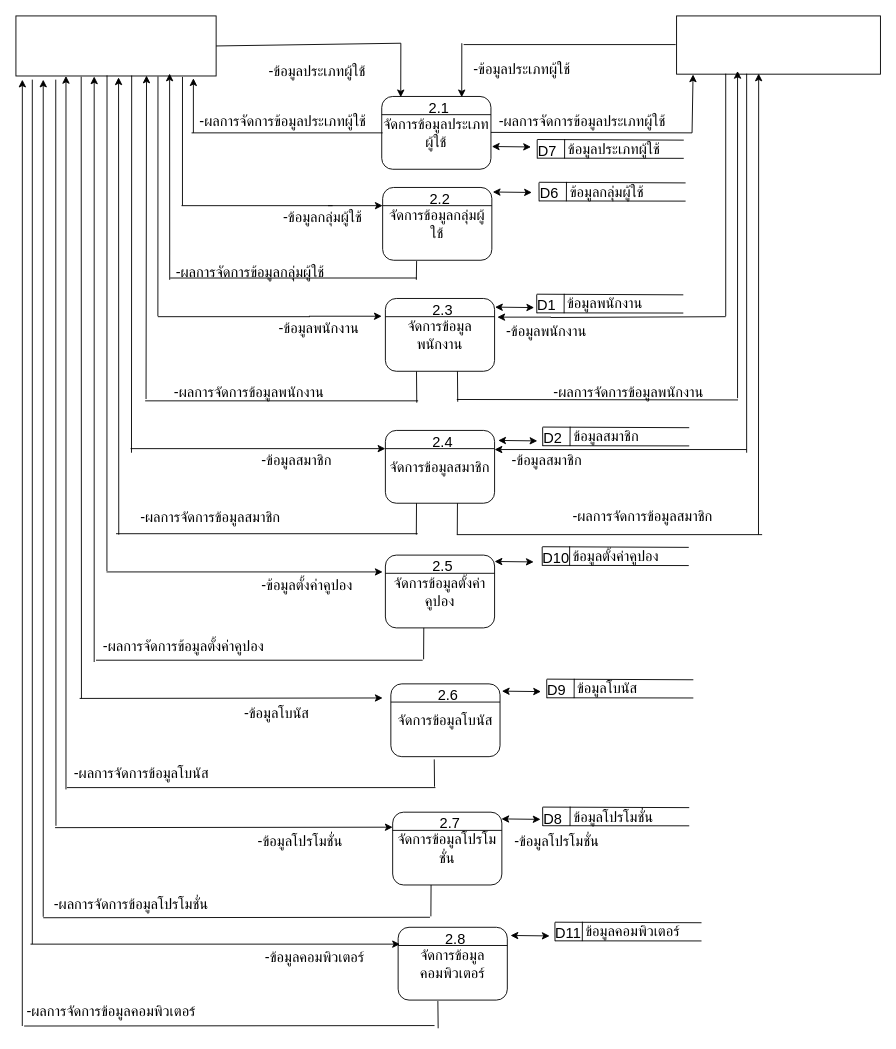
Image size: 896x1049. Some labels were removed from this diagram. The shapes that lost their labels are listed below. From the top down, each one's centre as x and y in pixels, then its label:
At pixel 115 45: "เจ้าของร้าน".
At pixel 778 44: "พนักงาน".
